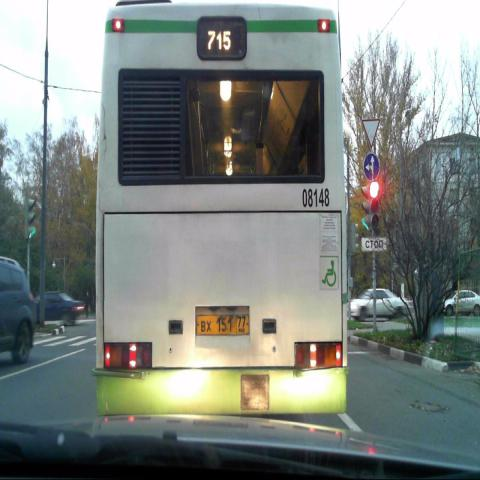4_1_5: (364, 153, 379, 182)
